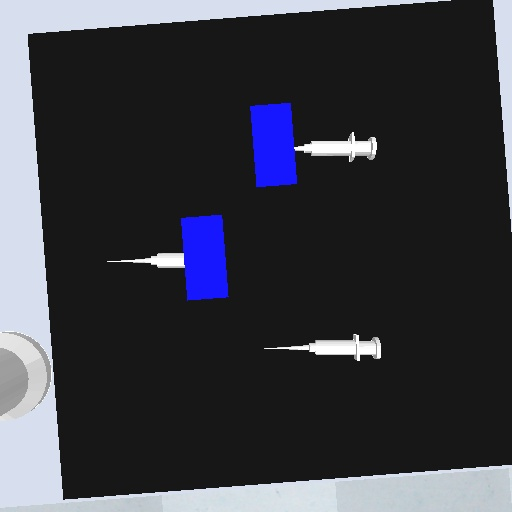jeringuilla: (261, 332, 386, 366), (294, 128, 380, 169), (104, 246, 187, 276)
